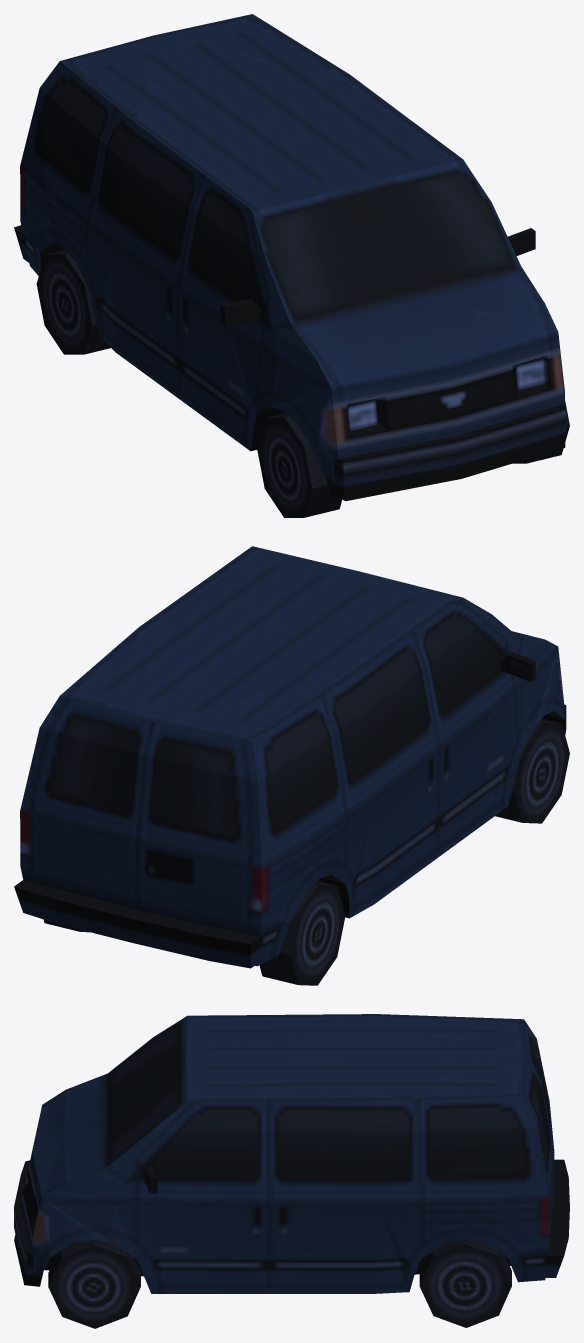
3 renders of one model, top to bottom at view 1: azimuth 30°, elevation 25°; view 2: azimuth 150°, elevation 25°; view 3: azimuth 270°, elevation 25°, orthographic. The views are drawn at different scales.
Parts seen in each view (by area): view 1: car4; view 2: car4; view 3: car4.
Part boxes in pixels (x1,y1,x2,y2): car4: (14, 14, 569, 517); car4: (14, 546, 569, 985); car4: (14, 1014, 569, 1328).
Bounding box in the file's own units: 3.4 × 2.74 × 6.3.
1 material, 1 textured.
